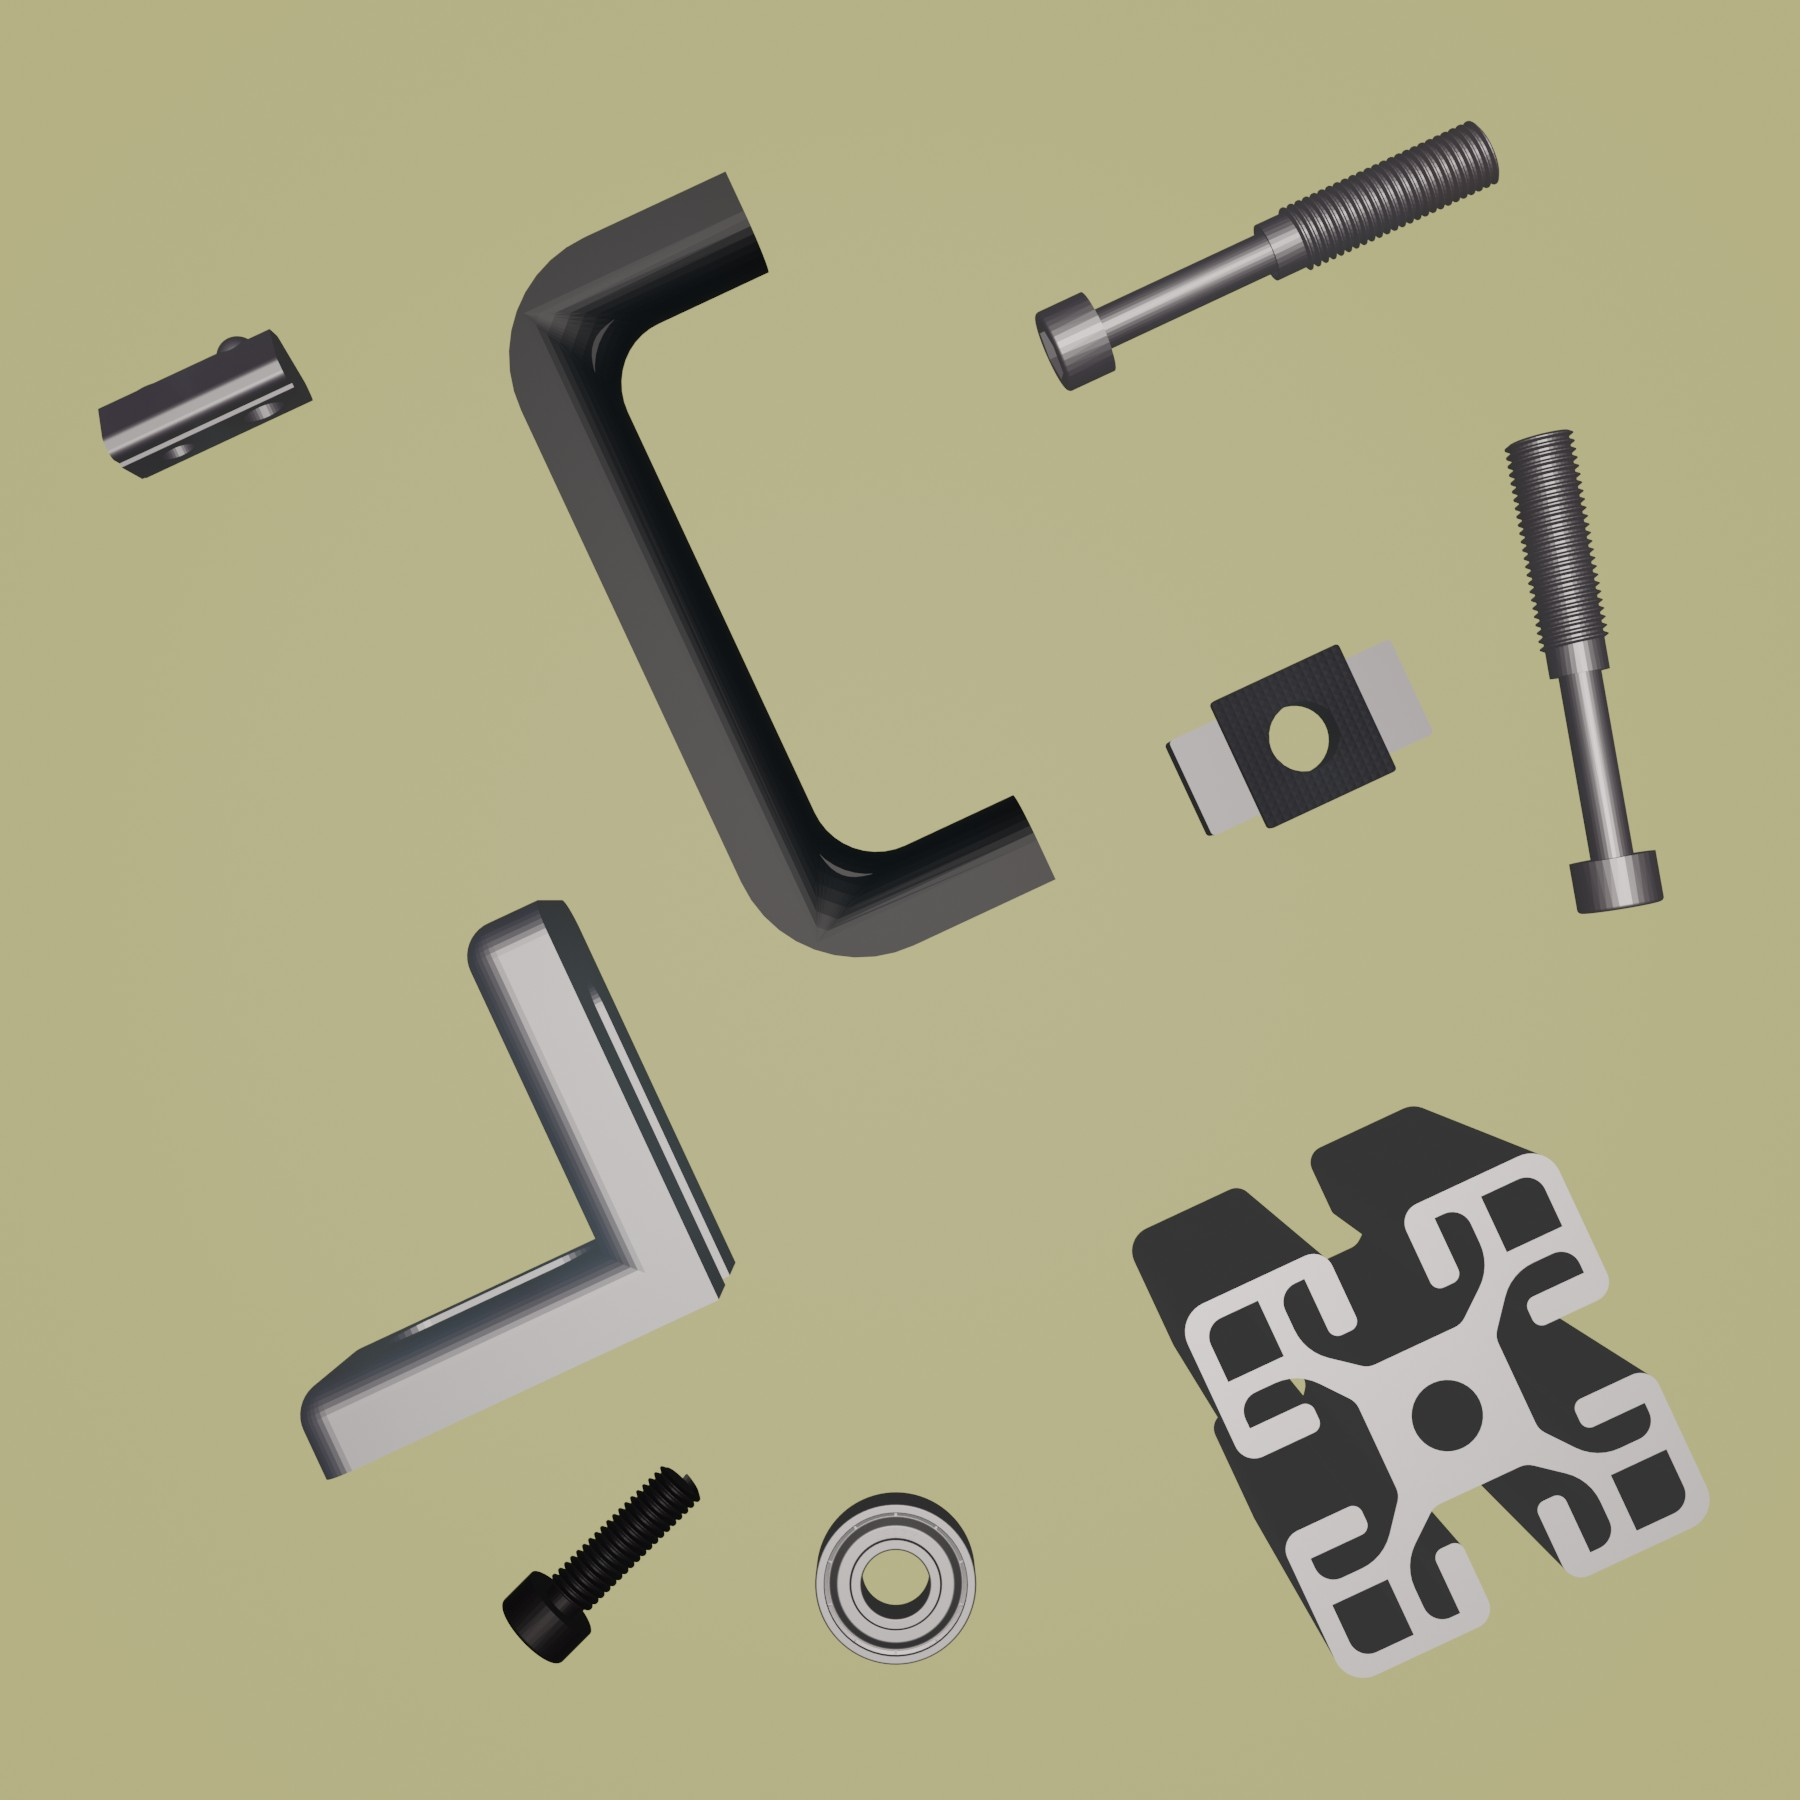Aluminium Extension: (1127, 1103, 1713, 1685)
Ball Bearing: (813, 1488, 981, 1668)
Multiwinkel: (298, 897, 738, 1484)
Pull Handle: (506, 166, 1058, 961)
Shoulder Socket Head Cap Screw: (1032, 115, 1503, 396), (1502, 424, 1665, 916)
Socket Head Cap Screw: (499, 1462, 704, 1666)
T Nut Square: (1162, 631, 1437, 839)
T Spring Nut: (96, 323, 316, 481)
